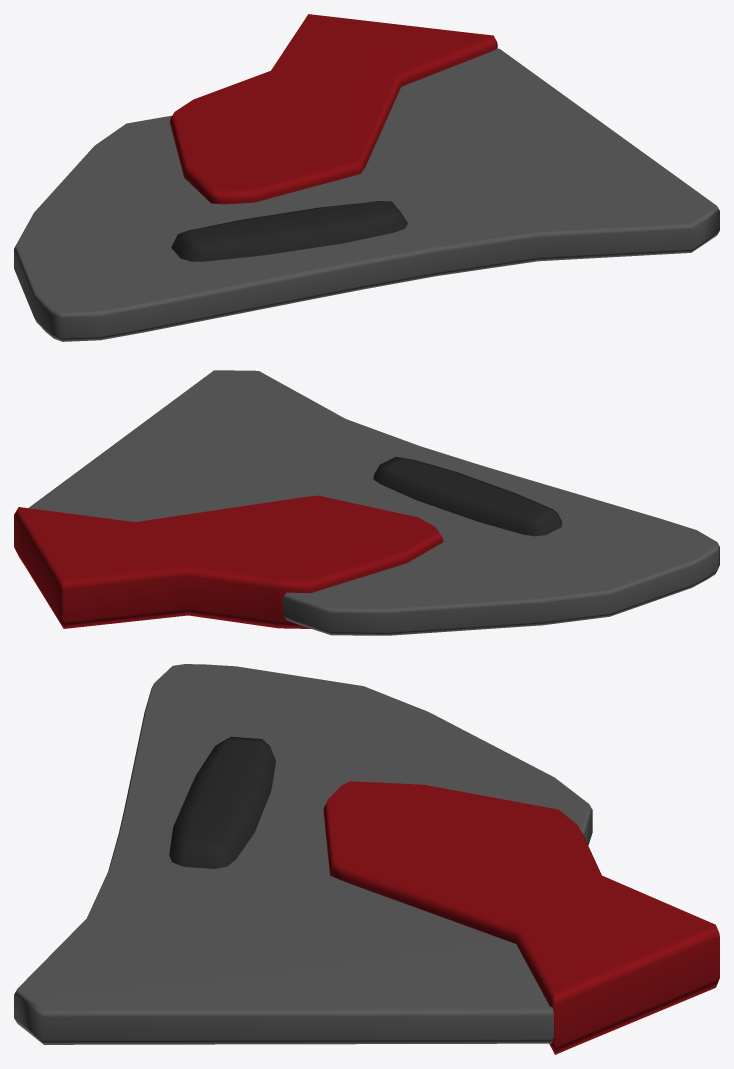
File: Spaceship_main_02_Wing_R.fbx
3 views of the same model, one above another, from view 1: azimuth 30°, elevation 25°; view 2: azimuth 150°, elevation 25°; view 3: azimuth 270°, elevation 25° (orthographic). The views are drawn at different scales.
Parts seen in each view (by area): view 1: Spaceship_main_02_Wing_R; view 2: Spaceship_main_02_Wing_R; view 3: Spaceship_main_02_Wing_R.
Boxes of the visible parts, x1,y1,x2,y2 form: Spaceship_main_02_Wing_R: (14, 14, 719, 341); Spaceship_main_02_Wing_R: (14, 370, 719, 635); Spaceship_main_02_Wing_R: (14, 664, 719, 1054).
Bounding box in the file's own units: 251 × 21.99 × 215.
